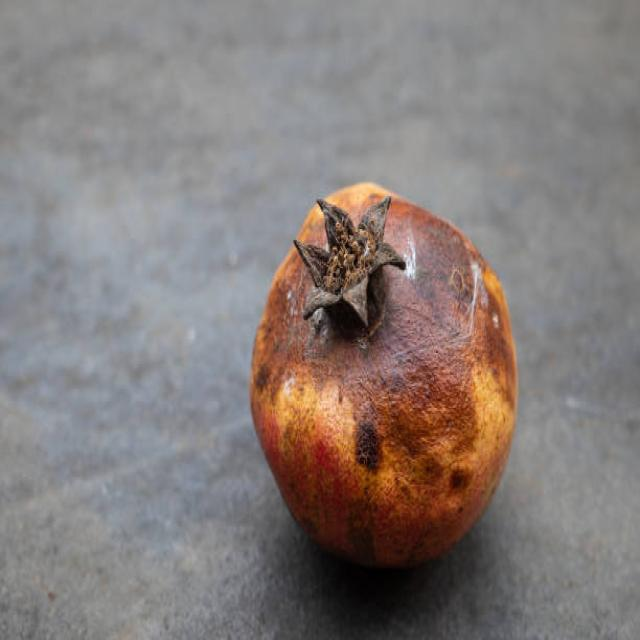overripe: (249, 178, 525, 573)
